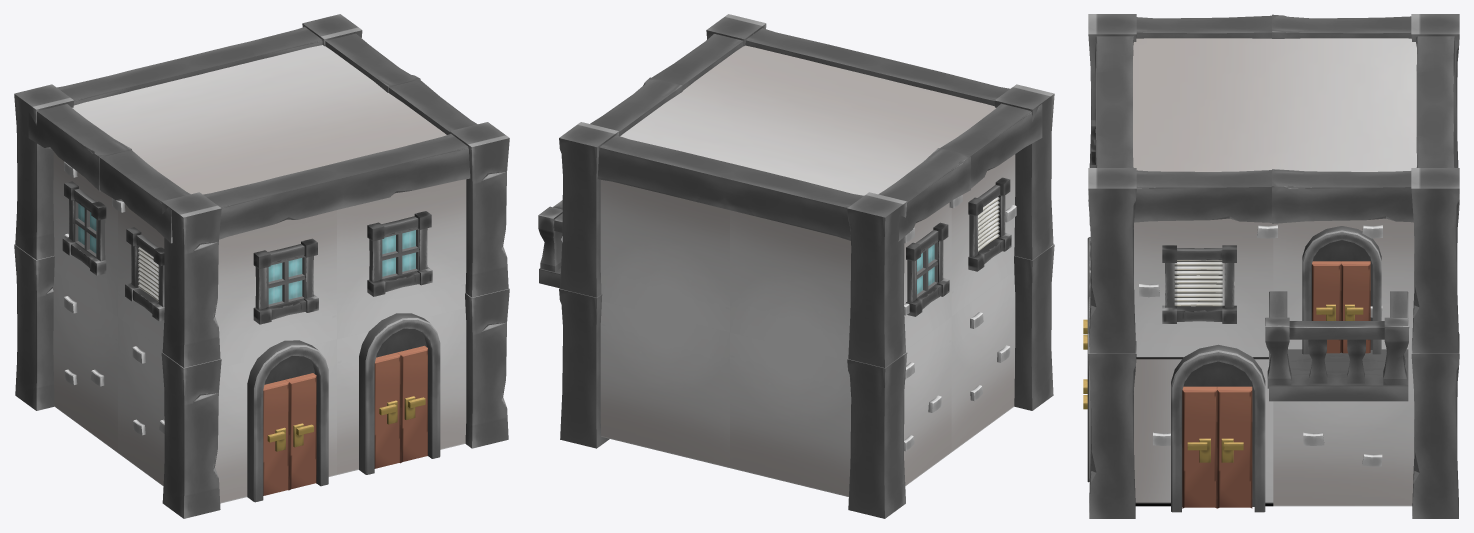
The model's file is Primera_Urban_House03.fbx.
3 renders of one model, left to right at view 1: azimuth 30°, elevation 25°; view 2: azimuth 150°, elevation 25°; view 3: azimuth 270°, elevation 25°, orthographic. The views are drawn at different scales.
Parts seen in each view (by area): view 1: Primera_Urban_House03; view 2: Primera_Urban_House03; view 3: Primera_Urban_House03.
Part boxes in pixels (box(x1,y1,x2,y2)): Primera_Urban_House03: box(14, 14, 509, 518); Primera_Urban_House03: box(538, 14, 1054, 518); Primera_Urban_House03: box(1083, 14, 1459, 518).
Size of the model in its own units: 1486 by 1158 by 1195.
Materials: 3 (3 with a texture image).
